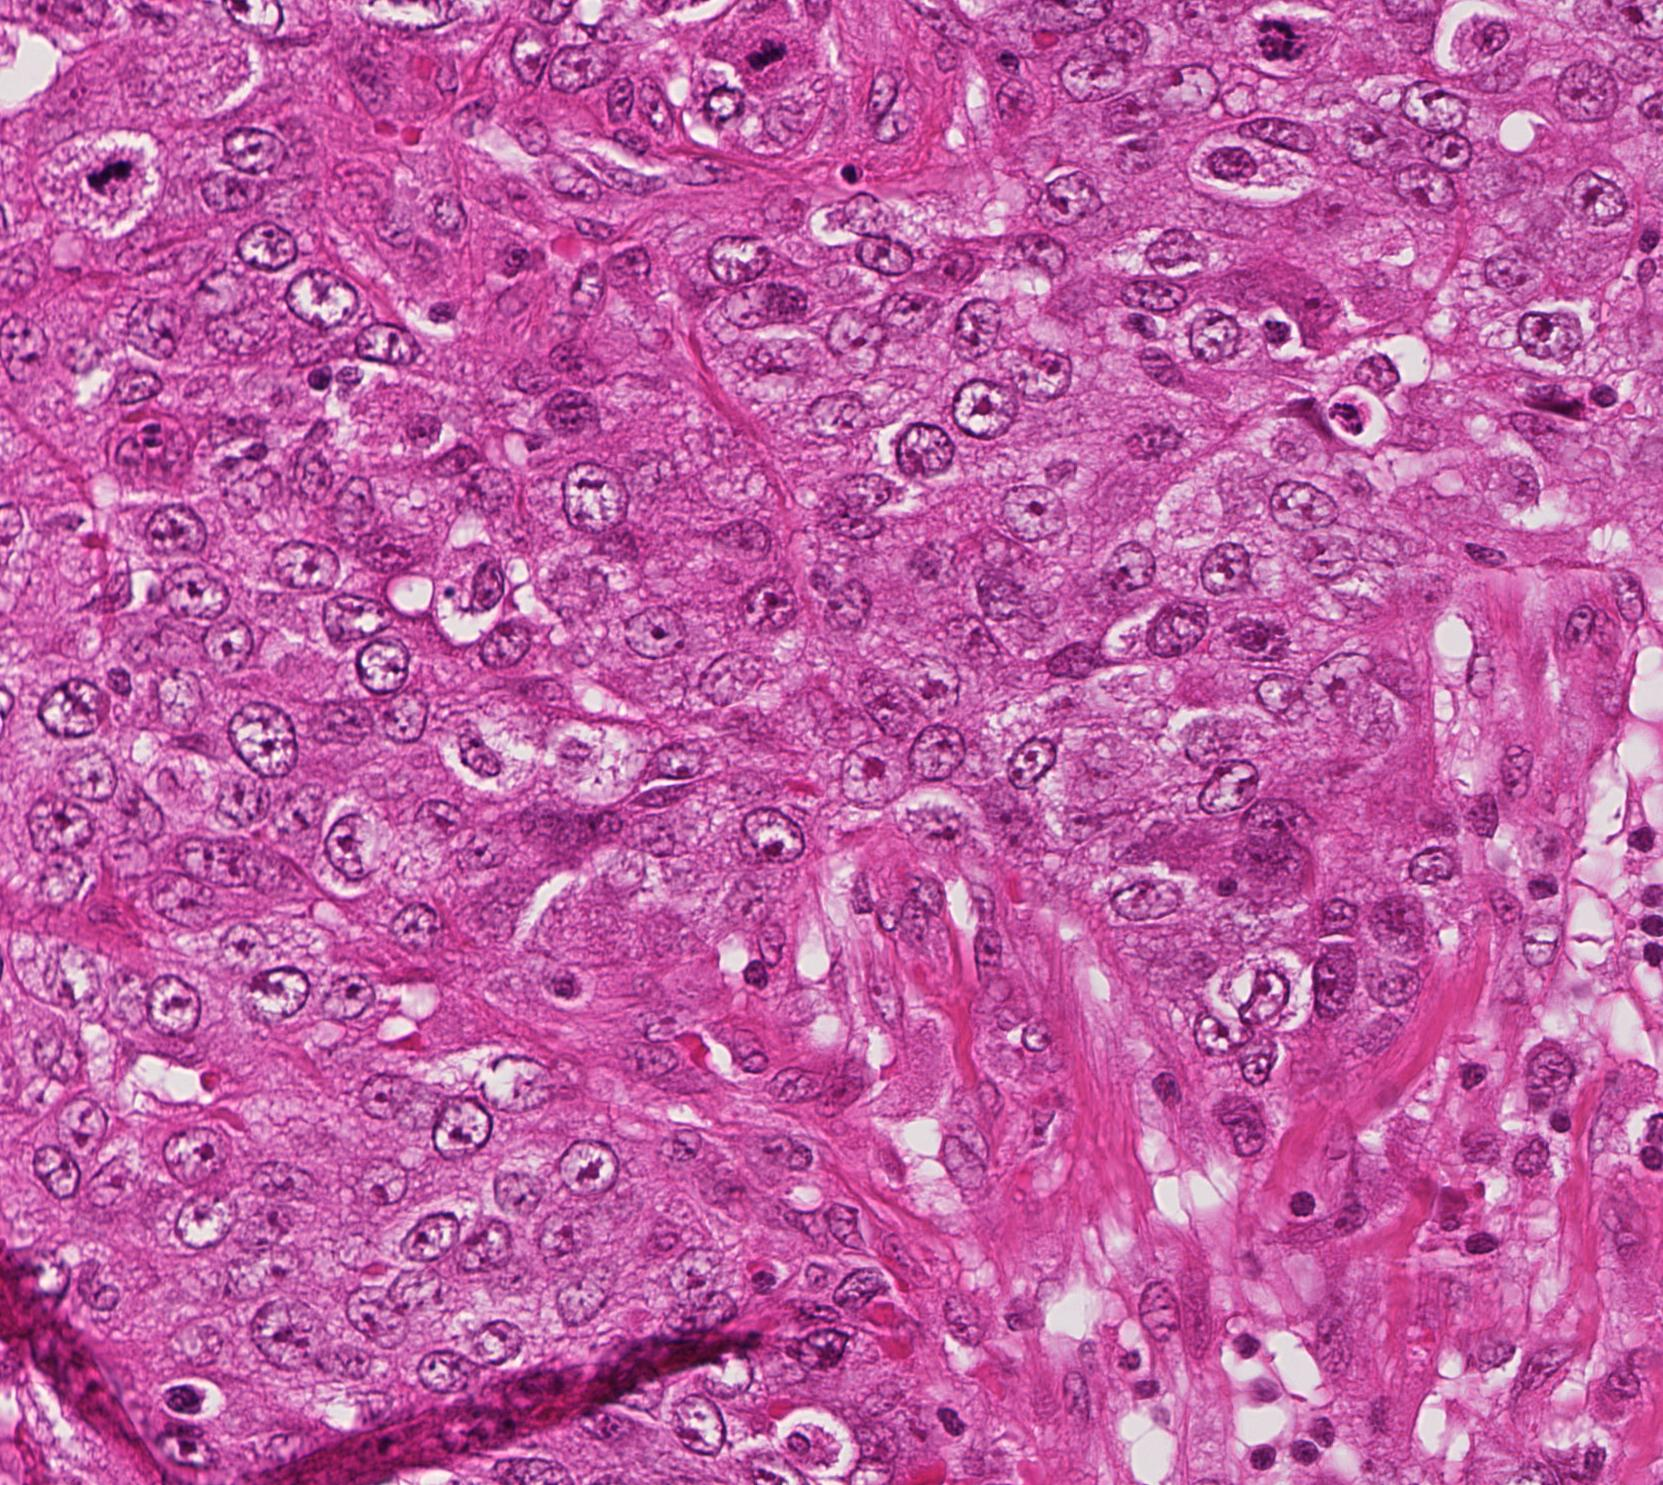mitosis: (1252, 11, 1312, 72), (80, 145, 140, 205), (740, 29, 800, 87)
